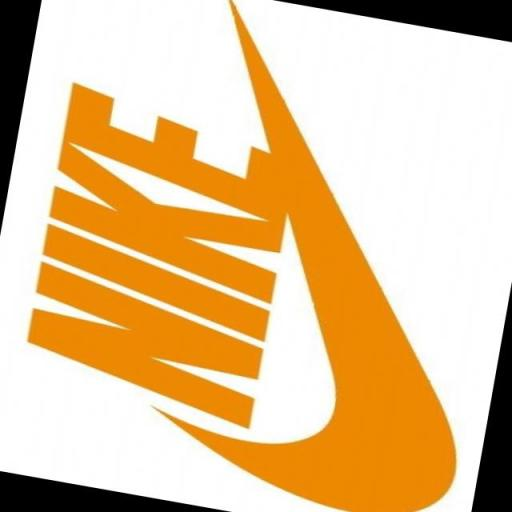Nike: (131, 0, 512, 512), (11, 76, 313, 431)
